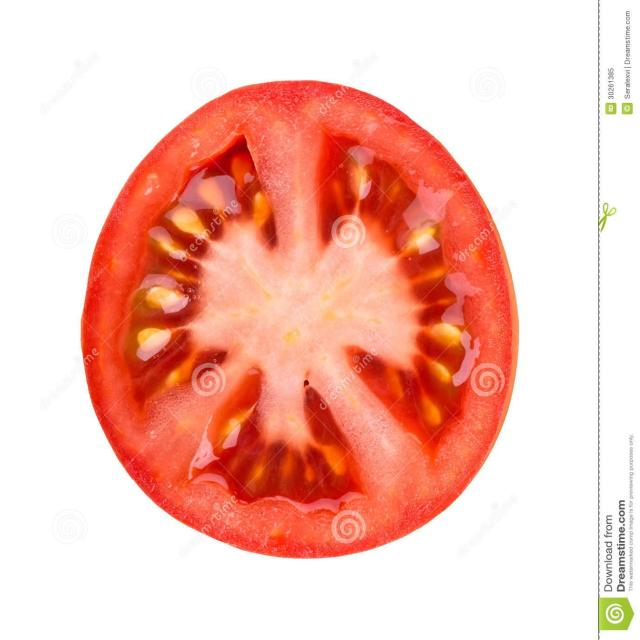Tomato: (73, 74, 520, 568)
